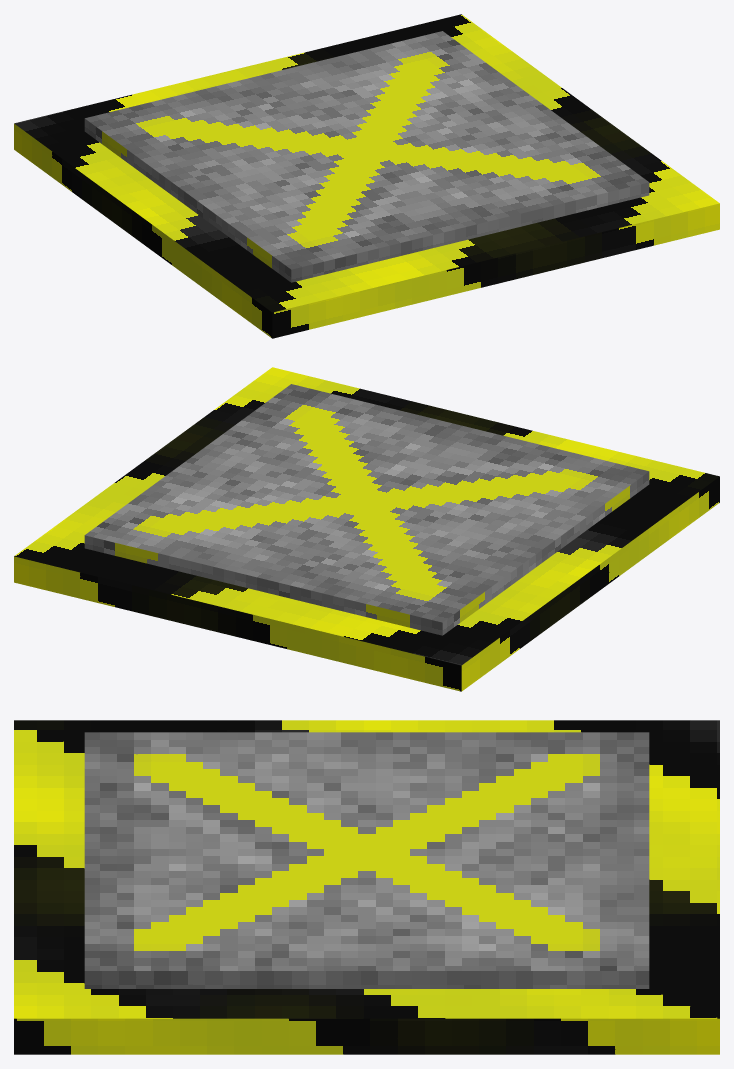
File: Pressure Plate.fbx
The picture shows the model from 3 angles, top to bottom: view 1: azimuth 30°, elevation 25°; view 2: azimuth 150°, elevation 25°; view 3: azimuth 270°, elevation 25°; orthographic projection. The views are drawn at different scales.
Parts seen in each view (by area): view 1: Pressure Plate, Plate Housing; view 2: Pressure Plate, Plate Housing; view 3: Pressure Plate, Plate Housing.
Boxes of the visible parts, x1,y1,x2,y2 form: Pressure Plate: (84,31,649,282); Plate Housing: (14,14,719,338); Pressure Plate: (84,384,649,635); Plate Housing: (14,367,719,691); Pressure Plate: (84,732,649,988); Plate Housing: (14,720,719,1054).
Bounding box in the file's own units: 25 × 25 × 2.79.
